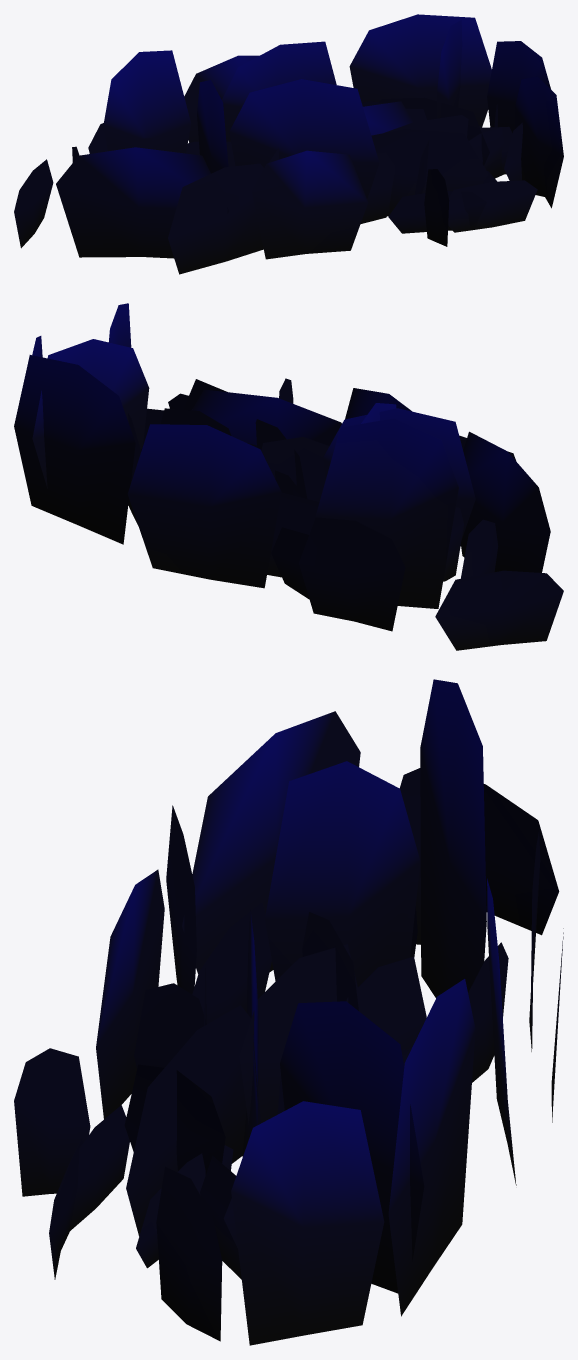
The model's file is SM_Grass_M_Patch_L_04.fbx.
3 views of the same model, one above another, from view 1: azimuth 30°, elevation 25°; view 2: azimuth 150°, elevation 25°; view 3: azimuth 270°, elevation 25° (orthographic). The views are drawn at different scales.
Parts seen in each view (by area): view 1: SM_Grass_M_Patch_L_04; view 2: SM_Grass_M_Patch_L_04; view 3: SM_Grass_M_Patch_L_04.
Boxes of the visible parts, x1,y1,x2,y2 form: SM_Grass_M_Patch_L_04: (14,14,563,274); SM_Grass_M_Patch_L_04: (14,303,563,650); SM_Grass_M_Patch_L_04: (14,679,563,1345).
Bounding box in the file's own units: 440 × 214 × 139.
